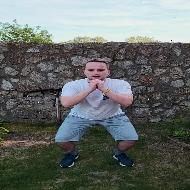squats: (47, 49, 150, 168)
